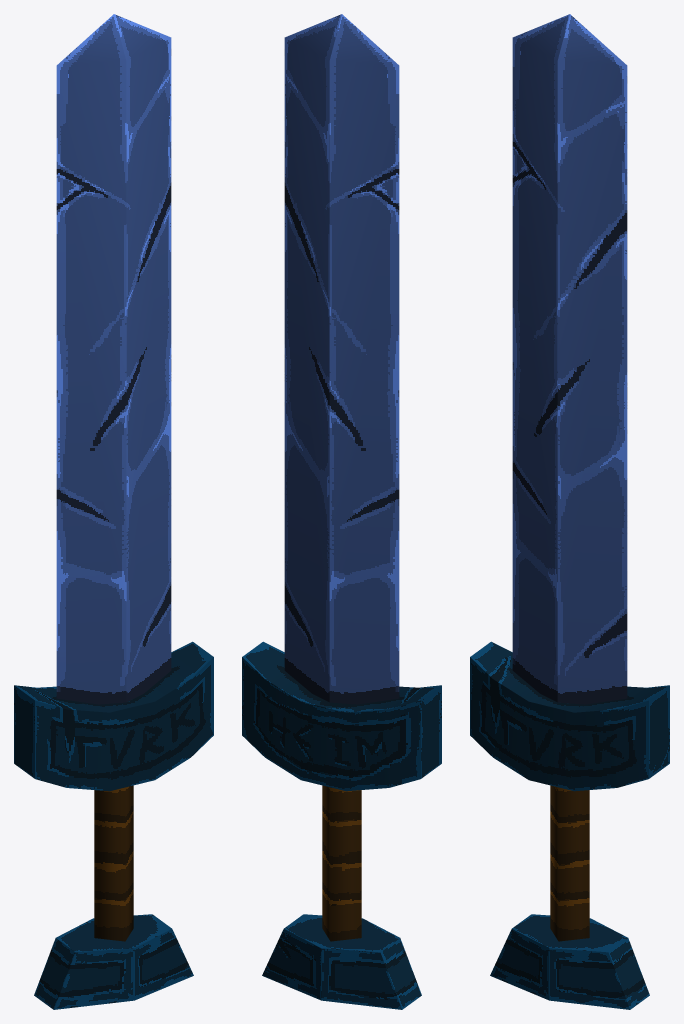
The model's file is Sword.glb.
3 renders of one model, left to right at view 1: azimuth 30°, elevation 25°; view 2: azimuth 150°, elevation 25°; view 3: azimuth 330°, elevation 25°, orthographic.
Visible parts, largest first — view 1: Sword; view 2: Sword; view 3: Sword.
Part boxes in pixels (x1,y1,x2,y2): Sword: [14, 14, 213, 1009]; Sword: [242, 14, 441, 1009]; Sword: [470, 14, 669, 1009].
Bounding box in the file's own units: 0.1957 × 1.02 × 0.0778.
Materials: 1 (1 with a texture image).
